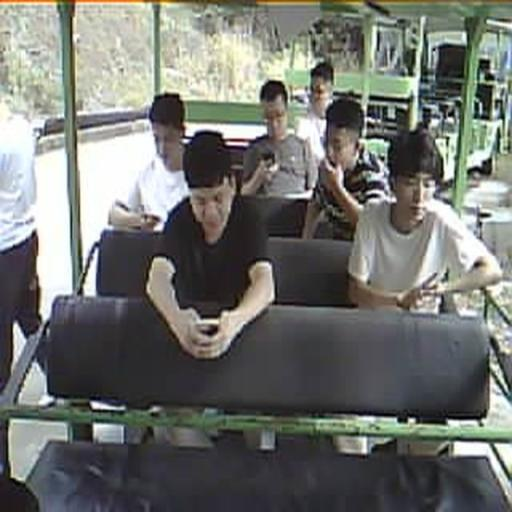persona: (144, 129, 276, 361), (346, 127, 502, 315), (302, 96, 392, 240), (108, 91, 194, 230), (240, 78, 318, 199), (294, 61, 337, 162)
